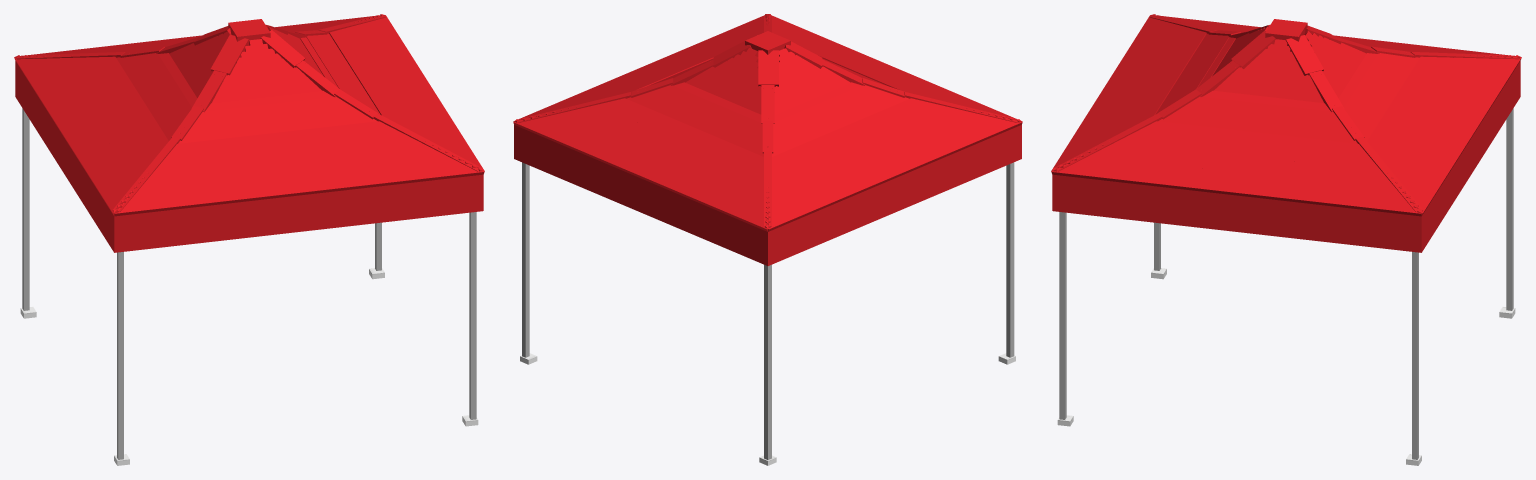
The model's file is tent_red_y75.obj.
3 renders of one model, left to right at view 1: azimuth 30°, elevation 25°; view 2: azimuth 150°, elevation 25°; view 3: azimuth 270°, elevation 25°, orthographic. The views are drawn at different scales.
Parts seen in each view (by area): view 1: text2, text1, cube1.005, cube2.005, stem3, cube3.005, cube4.005, stem2, cube5.001, cube6.001, stem1, cube7.001 (+61 smaller); view 2: text0, text1, cube1.003, cube1.006, stem1, stem2, stem4, cube2.003, cube2.006, cube3.003, cube3.006, cube4.003 (+44 smaller); view 3: text3, text0, cube1.004, cube2.004, stem3, cube3.004, cube4.004, stem2, cube5.000, cube6.000, stem4, cube7.000 (+61 smaller).
Boxes of the visible parts, x1=… form: text2: x1=112, y1=174, x2=483, y2=252; text1: x1=16, y1=63, x2=112, y2=249; cube1.005: x1=113, y1=168, x2=483, y2=216; cube2.005: x1=117, y1=164, x2=476, y2=208; stem3: x1=469, y1=212, x2=476, y2=419; cube3.005: x1=121, y1=161, x2=469, y2=204; cube4.005: x1=125, y1=158, x2=462, y2=199; stem2: x1=22, y1=108, x2=29, y2=310; cube5.001: x1=130, y1=154, x2=455, y2=194; cube6.001: x1=134, y1=151, x2=448, y2=189; stem1: x1=117, y1=252, x2=123, y2=459; cube7.001: x1=138, y1=147, x2=440, y2=185; text0: x1=514, y1=125, x2=771, y2=265; text1: x1=772, y1=126, x2=1017, y2=264; cube1.003: x1=764, y1=119, x2=1022, y2=233; cube1.006: x1=513, y1=119, x2=771, y2=233; stem1: x1=1006, y1=162, x2=1014, y2=357; stem2: x1=764, y1=264, x2=771, y2=459; stem4: x1=522, y1=162, x2=529, y2=357; cube2.003: x1=765, y1=117, x2=1014, y2=224; cube2.006: x1=521, y1=117, x2=770, y2=224; cube3.003: x1=765, y1=116, x2=1007, y2=219; cube3.006: x1=528, y1=116, x2=770, y2=219; cube4.003: x1=766, y1=114, x2=999, y2=214; text3: x1=1058, y1=175, x2=1415, y2=252; text0: x1=1416, y1=62, x2=1520, y2=252; cube1.004: x1=1052, y1=168, x2=1422, y2=216; cube2.004: x1=1059, y1=164, x2=1418, y2=208; stem3: x1=1059, y1=212, x2=1066, y2=419; cube3.004: x1=1066, y1=161, x2=1414, y2=204; cube4.004: x1=1073, y1=158, x2=1410, y2=199; stem2: x1=1506, y1=108, x2=1513, y2=310; cube5.000: x1=1080, y1=154, x2=1405, y2=194; cube6.000: x1=1087, y1=151, x2=1401, y2=189; stem4: x1=1412, y1=252, x2=1418, y2=459; cube7.000: x1=1095, y1=147, x2=1397, y2=185.
Size of the model in its own units: 4.57 by 3.66 by 4.57.
